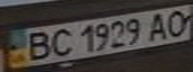1: (75, 23, 96, 53)
2: (109, 17, 130, 50)
9: (90, 20, 115, 52), (124, 15, 148, 46)
A: (142, 10, 175, 42)
B: (18, 29, 54, 62)
C: (45, 26, 75, 57)
O: (160, 7, 193, 38)
